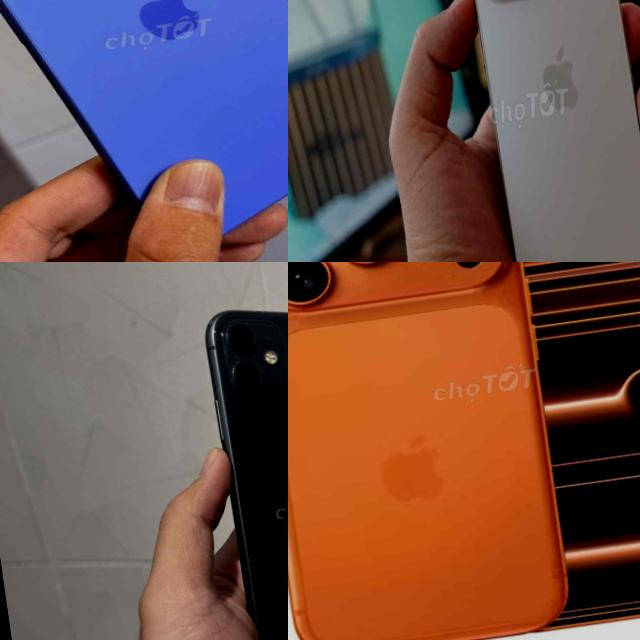gen_11: (186, 274, 288, 640)
gen_15: (439, 0, 640, 262)
gen_16: (0, 0, 288, 232)
gen_17: (288, 262, 577, 640)
scratch: (210, 311, 288, 394)
